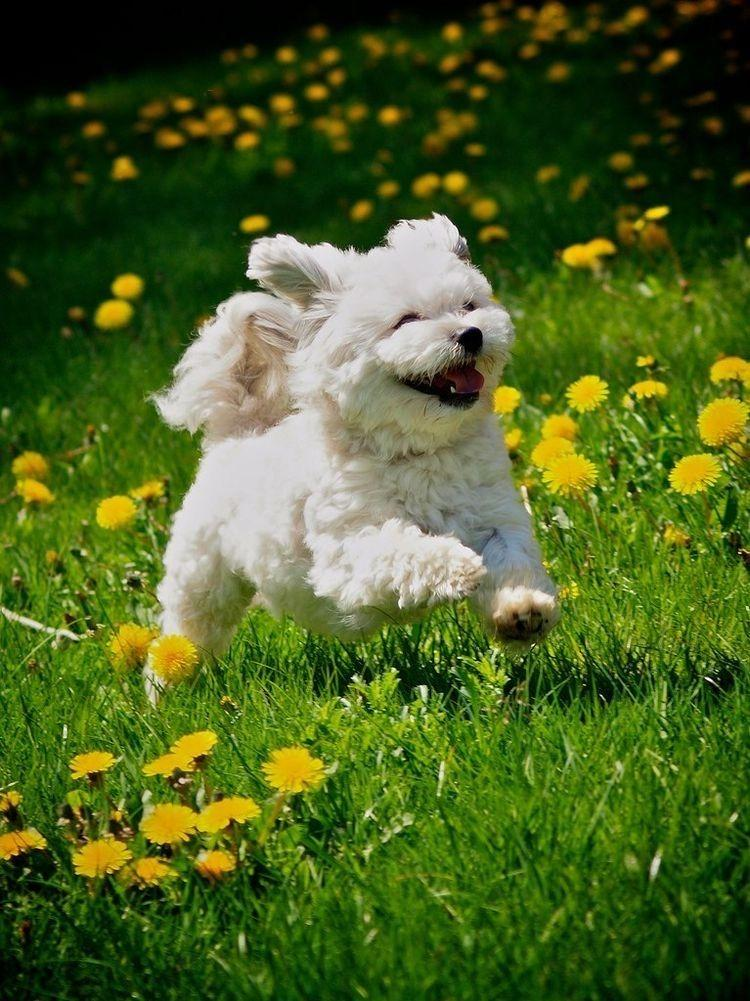adult_dog: (145, 217, 561, 705)
